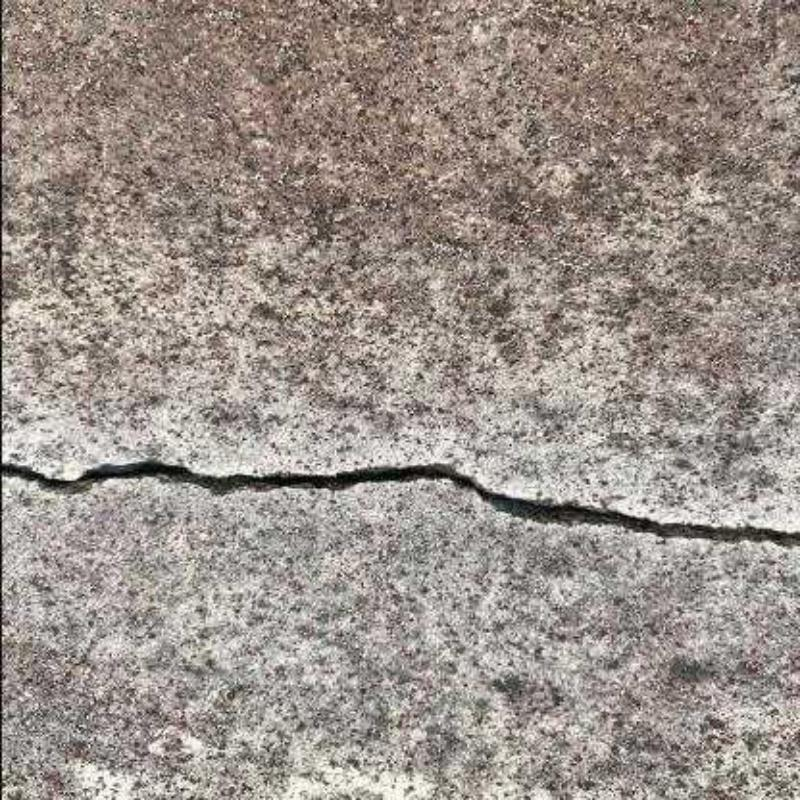crack: (0, 457, 800, 550)
